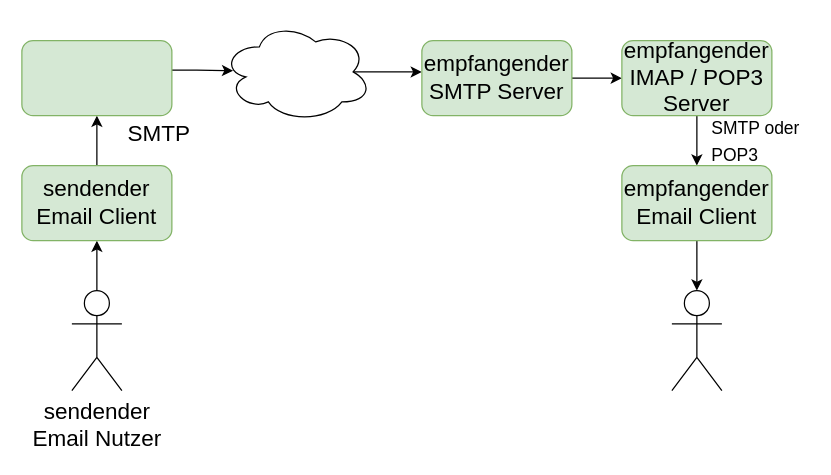
The diagram is 831 pixels wide and 475 high, and some of its shapes have lost their labels. The centre of each missing label's shape, as x and y in pixels:
empfangender Email Nutzer: pixel 696 340
Internet: pixel 296 71
sendender SMTP Server: pixel 96 77
